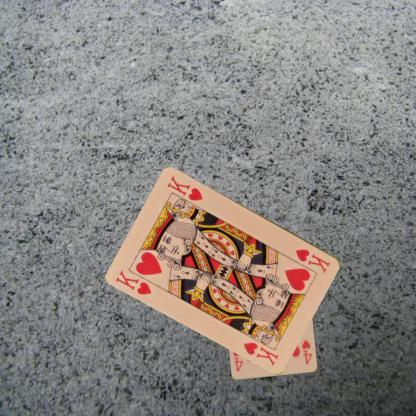4h: (299, 338, 313, 365)
Kh: (113, 267, 154, 296), (293, 246, 332, 275)
